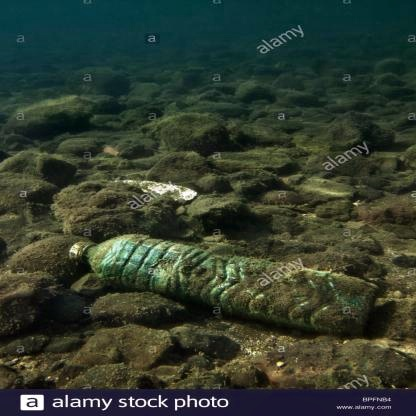misc: (108, 168, 208, 209)
pbottle: (59, 226, 382, 338)
